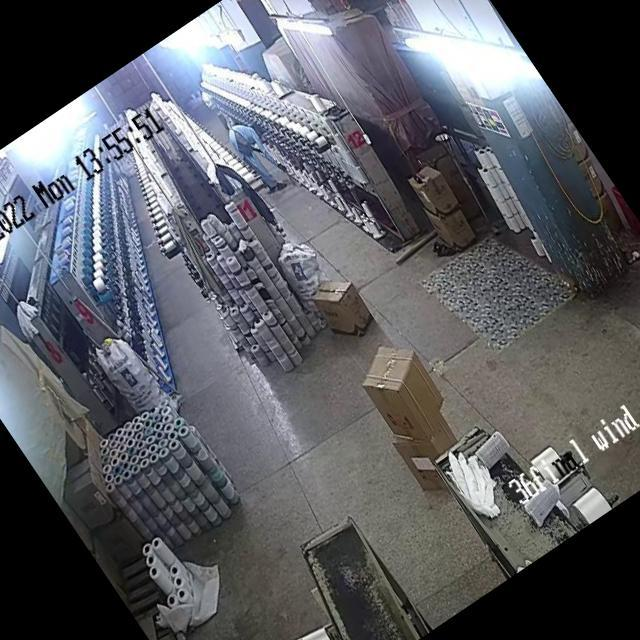person: (222, 108, 298, 198)
